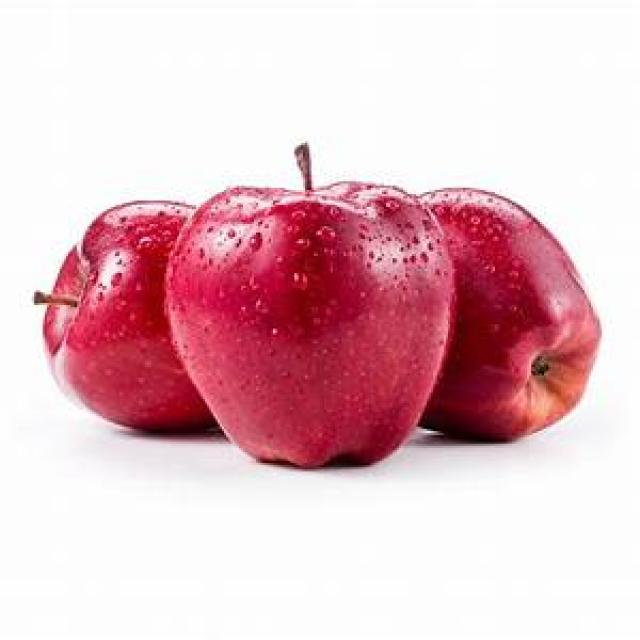apple: (165, 176, 459, 475)
